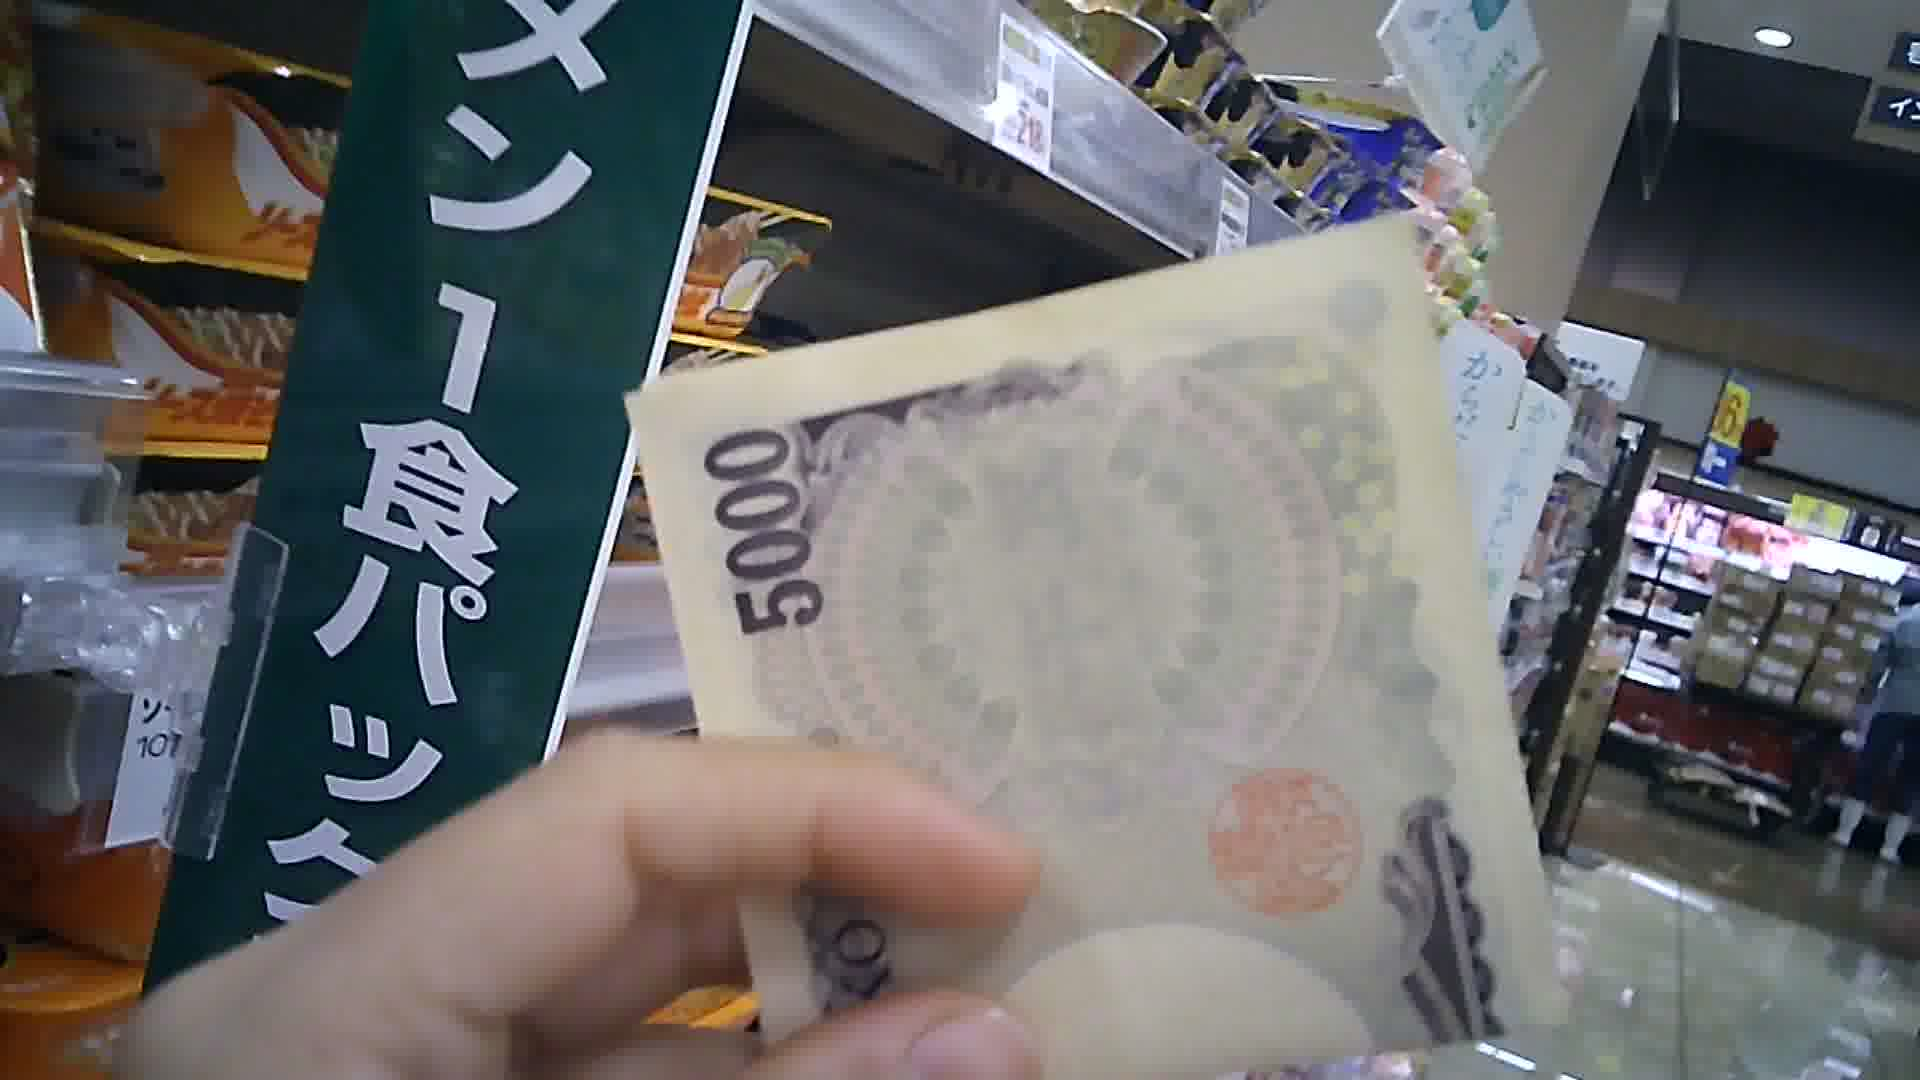5,000 Yen: (618, 193, 1542, 1073)
